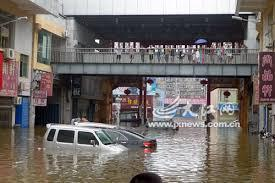water: (0, 126, 274, 182), (120, 124, 141, 135), (126, 147, 156, 154)
